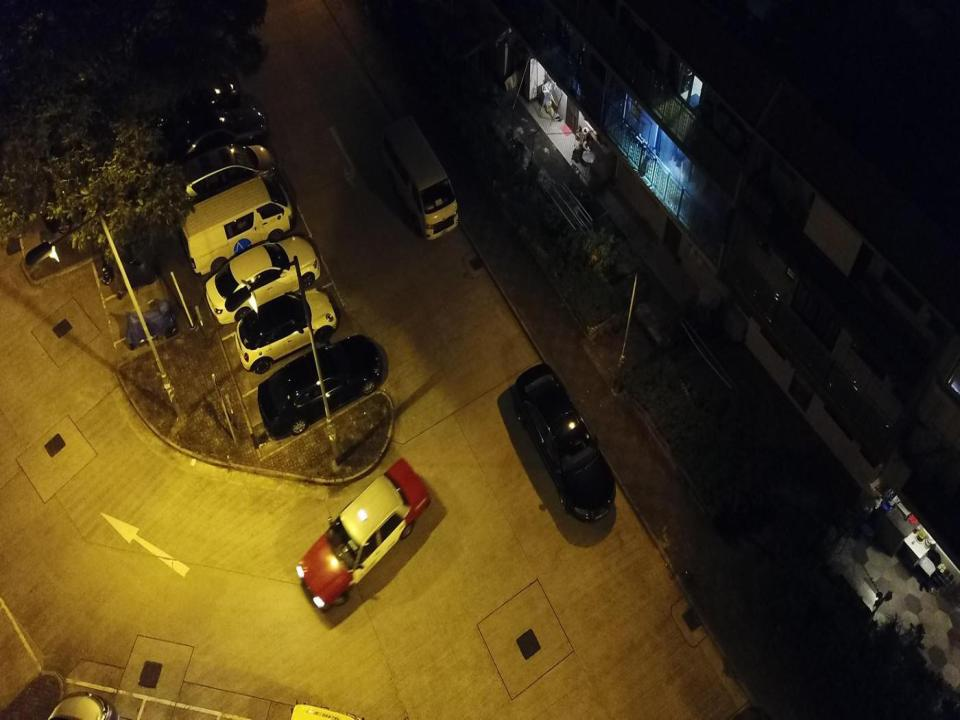car: (296, 456, 432, 610), (514, 364, 617, 524), (257, 331, 385, 440), (204, 234, 322, 325), (168, 143, 280, 230), (234, 288, 338, 374), (159, 101, 270, 179)
van: (177, 174, 295, 280), (379, 114, 460, 242)
